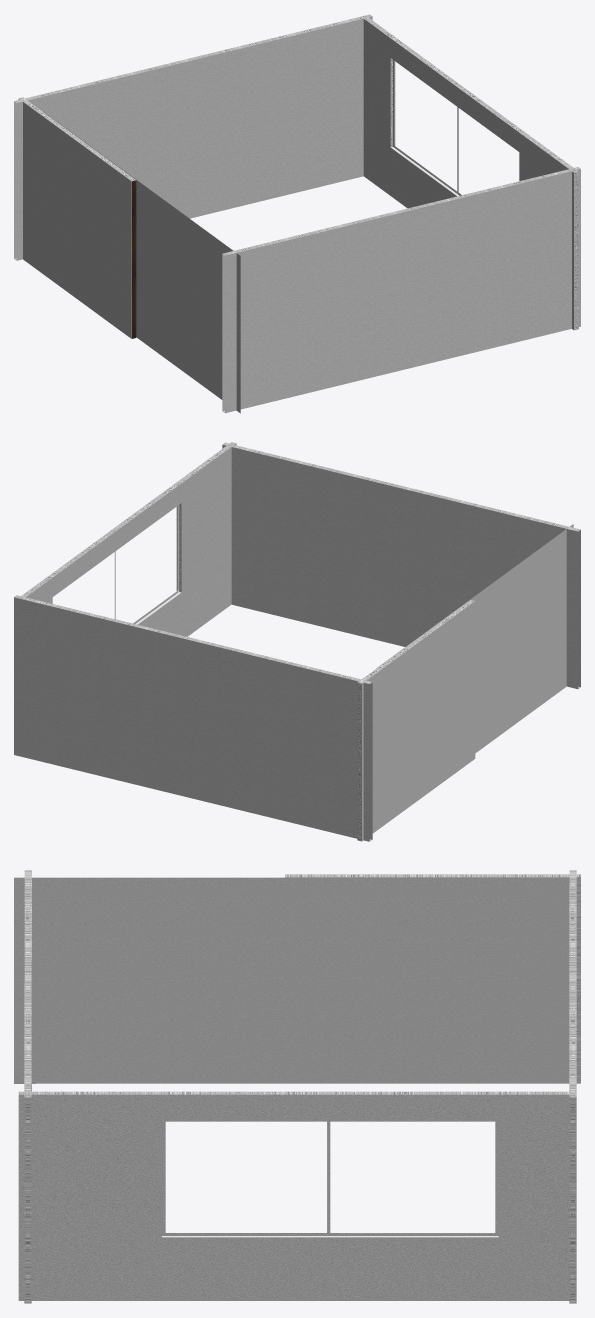
The model's file is paredes.glb.
The picture shows the model from 3 angles, top to bottom: view 1: azimuth 30°, elevation 25°; view 2: azimuth 150°, elevation 25°; view 3: azimuth 270°, elevation 25°; orthographic projection. The views are drawn at different scales.
Visible parts, largest first — view 1: Pared6_BrownWoodTexture_0.002, Pared6_BrownWoodTexture_0.004, Pared6_BrownWoodTexture_0.001, Pared6_BrownWoodTexture_0.066; view 2: Pared6_BrownWoodTexture_0.004, Pared6_BrownWoodTexture_0.002, Pared6_BrownWoodTexture_0.001, Pared6_BrownWoodTexture_0.066; view 3: Pared6_BrownWoodTexture_0.001, Pared6_BrownWoodTexture_0.066, Pared6_BrownWoodTexture_0.004, Pared6_BrownWoodTexture_0.002.
Part boxes in pixels (x1,y1,x2,y2): Pared6_BrownWoodTexture_0.002: [222, 167, 580, 413]; Pared6_BrownWoodTexture_0.004: [14, 14, 372, 260]; Pared6_BrownWoodTexture_0.001: [18, 97, 240, 413]; Pared6_BrownWoodTexture_0.066: [363, 17, 578, 330]; Pared6_BrownWoodTexture_0.004: [14, 595, 372, 841]; Pared6_BrownWoodTexture_0.002: [222, 442, 580, 689]; Pared6_BrownWoodTexture_0.001: [357, 524, 573, 841]; Pared6_BrownWoodTexture_0.066: [20, 442, 236, 636]; Pared6_BrownWoodTexture_0.001: [14, 874, 580, 1083]; Pared6_BrownWoodTexture_0.066: [18, 1091, 570, 1300]; Pared6_BrownWoodTexture_0.004: [569, 870, 576, 1303]; Pared6_BrownWoodTexture_0.002: [24, 870, 31, 1303].
Bounding box in the file's own units: 34.68 × 14.69 × 36.6.
5 materials, 4 textured.
